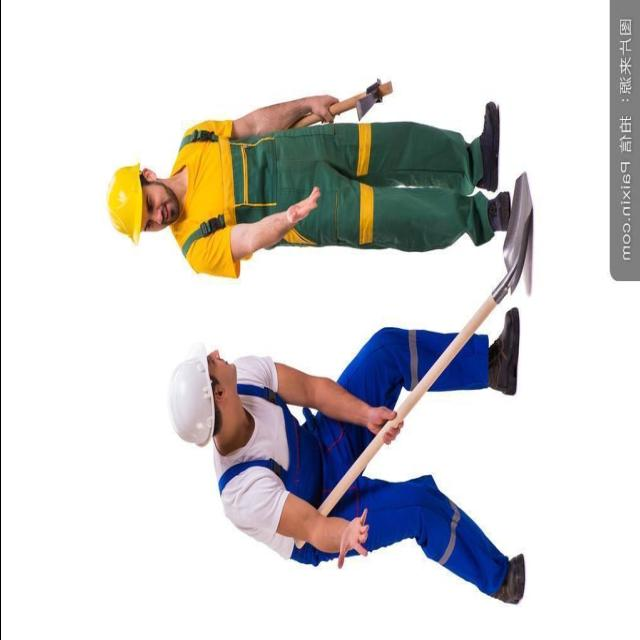helmet: (164, 328, 220, 460), (100, 158, 150, 256)
